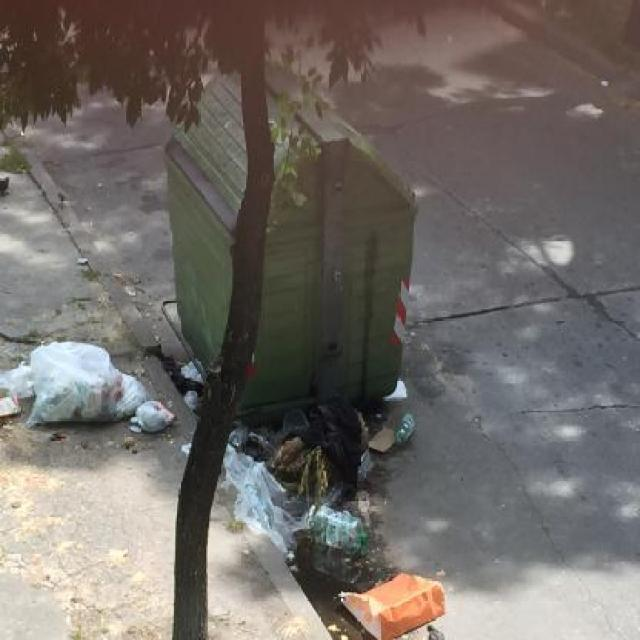garbage: (217, 433, 356, 552), (6, 347, 168, 436), (332, 574, 443, 626)
